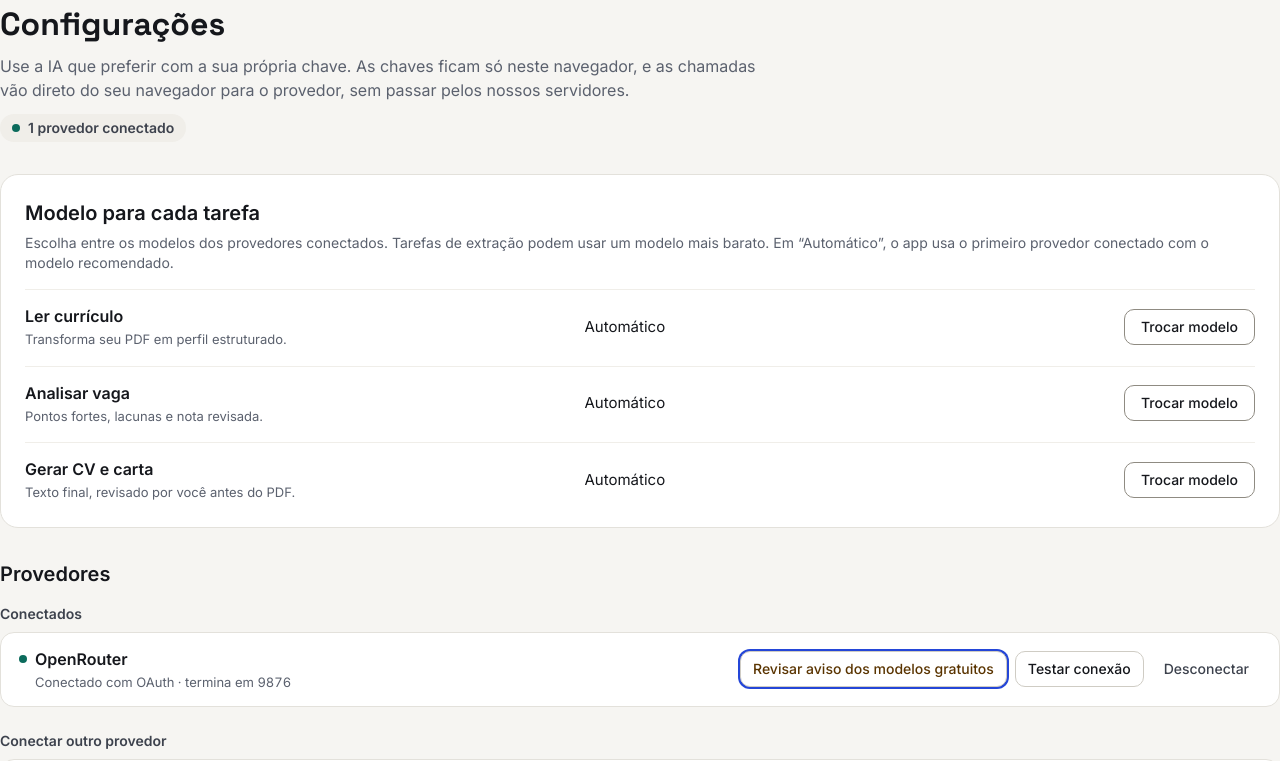
Test: AiSettingsScreen: foco após reordenar › ao aceitar o aviso pelo 'Revisar aviso', o botão some e o foco vai para o título 'Provedores'
Click the button "Revisar aviso dos modelos gratuitos": (873, 669) [740,651,1007,687]
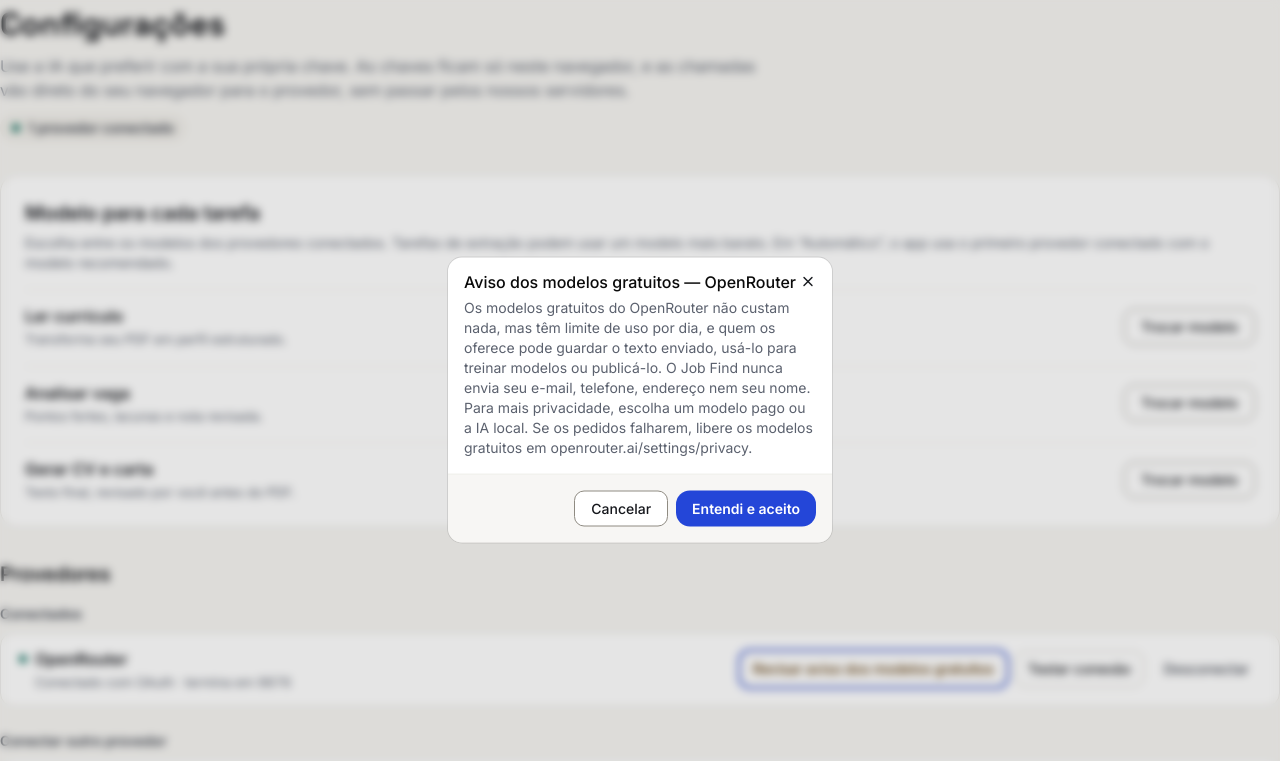
Click the button "Entendi e aceito": (746, 508) [676,490,816,526]
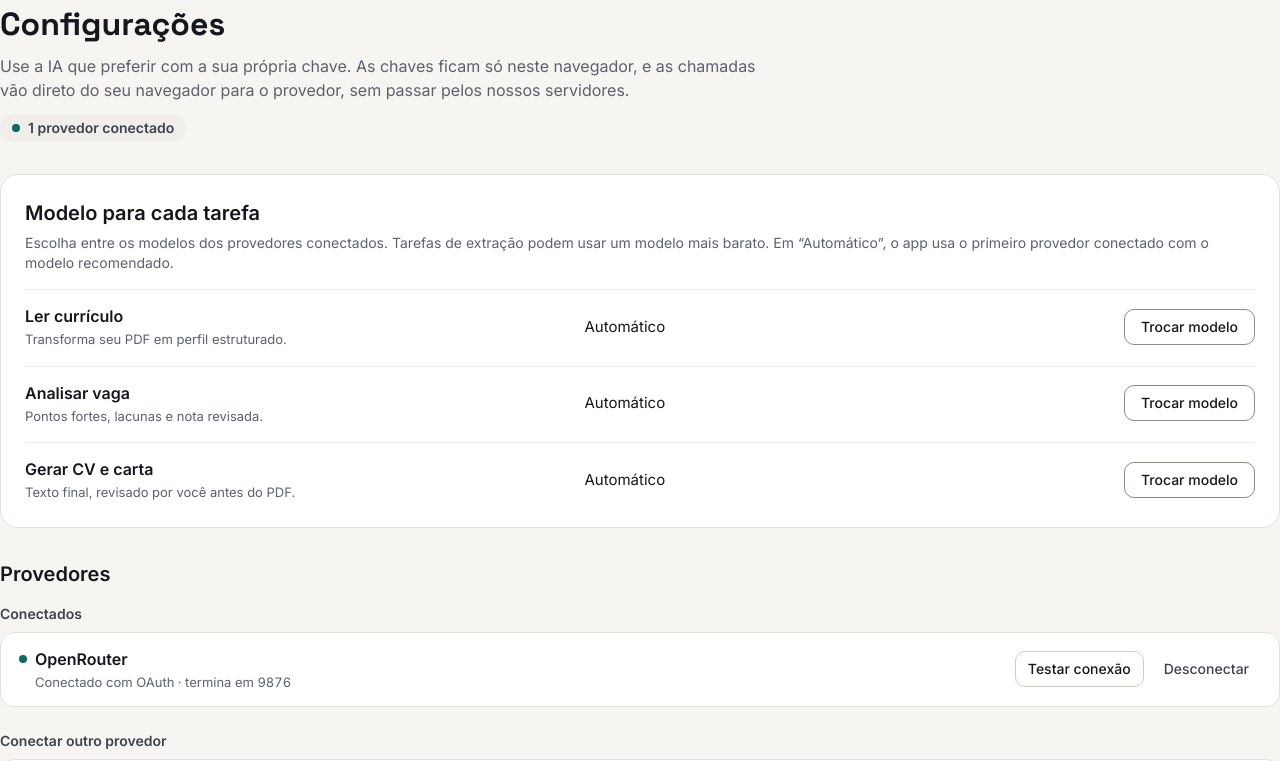
expect the dialog is gone: met
expect the button "Revisar aviso dos modelos gratuitos" is gone: met
